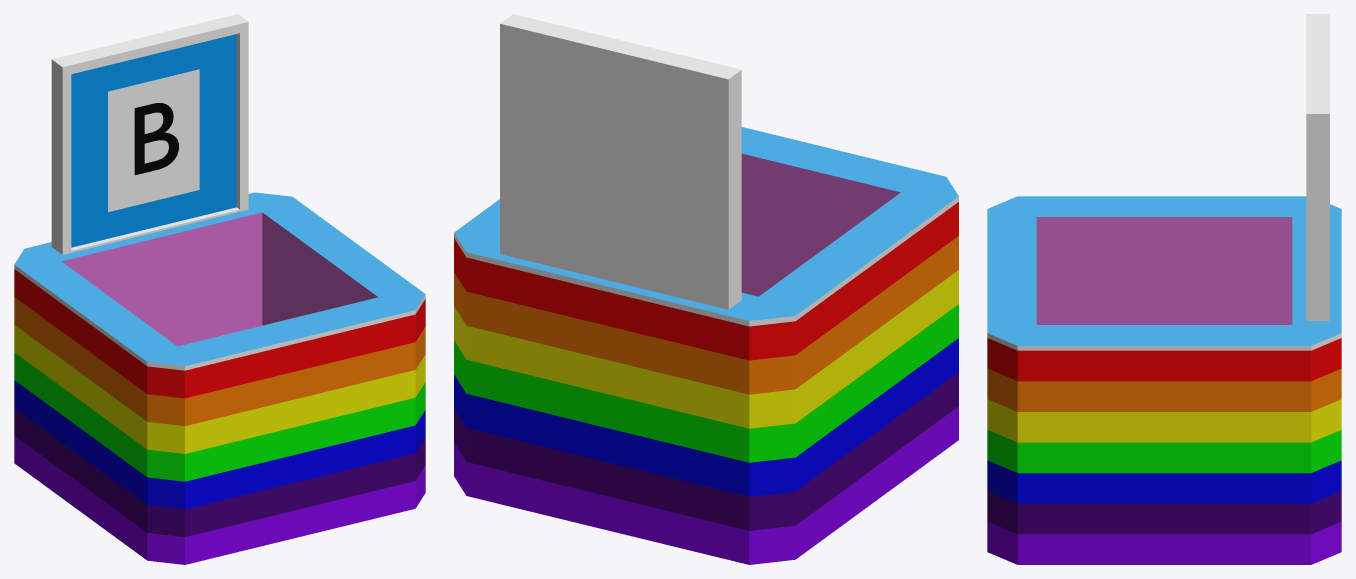
3 renders of one model, left to right at view 1: azimuth 30°, elevation 25°; view 2: azimuth 150°, elevation 25°; view 3: azimuth 270°, elevation 25°, orthographic. The views are drawn at different scales.
Parts seen in each view (by area): view 1: Cube.001, Text; view 2: Cube.001; view 3: Cube.001.
Part boxes in pixels (left/top/right/bottom): Cube.001: left=14, top=14, right=425, bottom=564; Text: left=134, top=103, right=178, bottom=175; Cube.001: left=454, top=14, right=958, bottom=564; Cube.001: left=987, top=14, right=1341, bottom=564.
Size of the model in its own units: 383 by 508 by 383.
